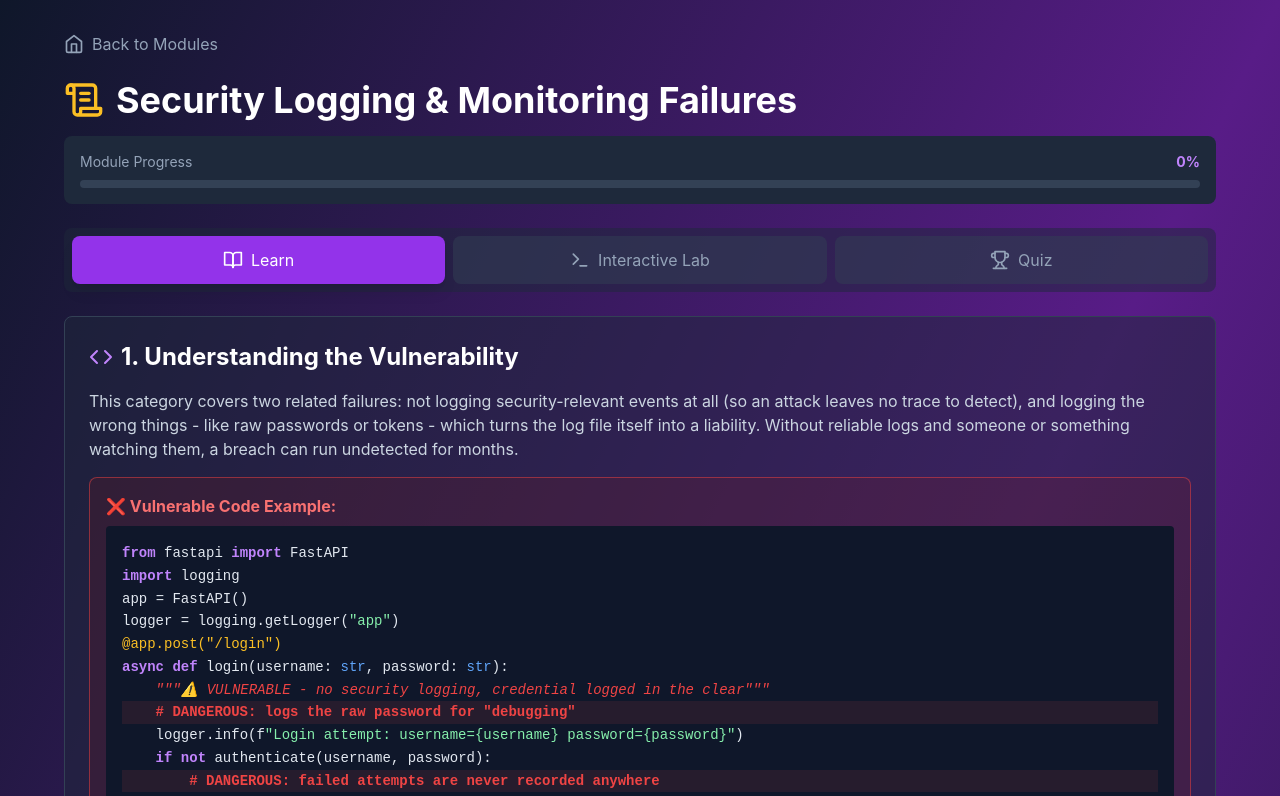
it: LoggingFailuresModule log-review lab › flags a log line that leaks a raw password
Click the button "Interactive Lab" at point(640, 260), box [453,236,827,284]
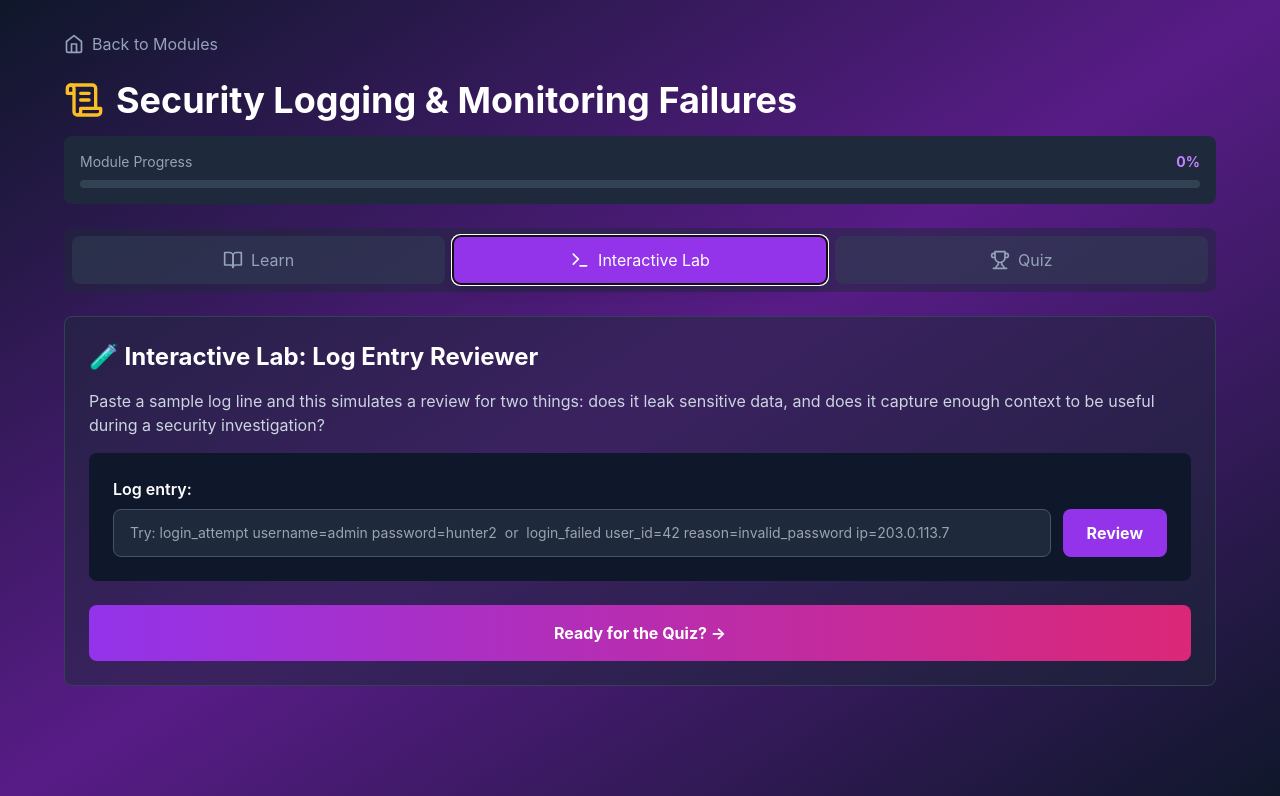
Type "login_attempt username=admin password=hunter2" into the field with placeholder "login_attempt" at point(582, 533), box [113,509,1051,557]
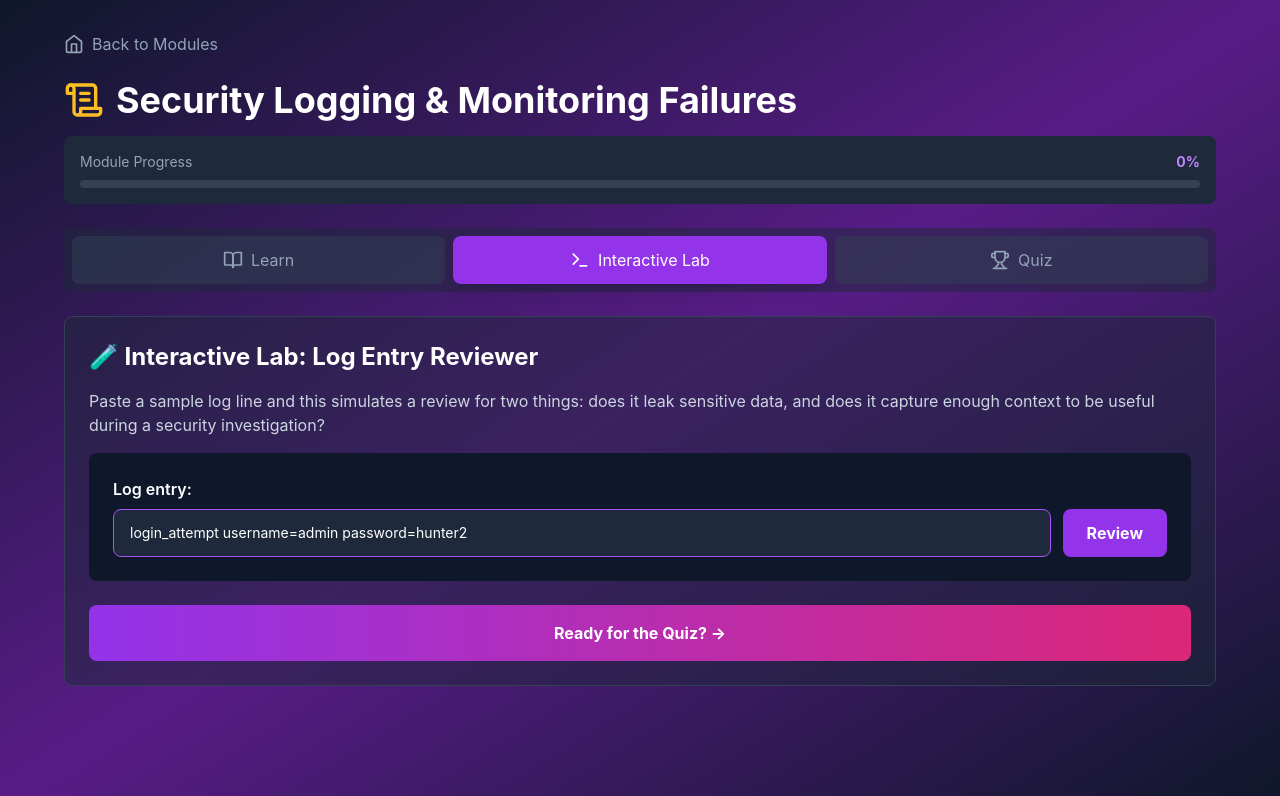
Click the button "Review" at point(1115, 533), box [1063,509,1167,557]
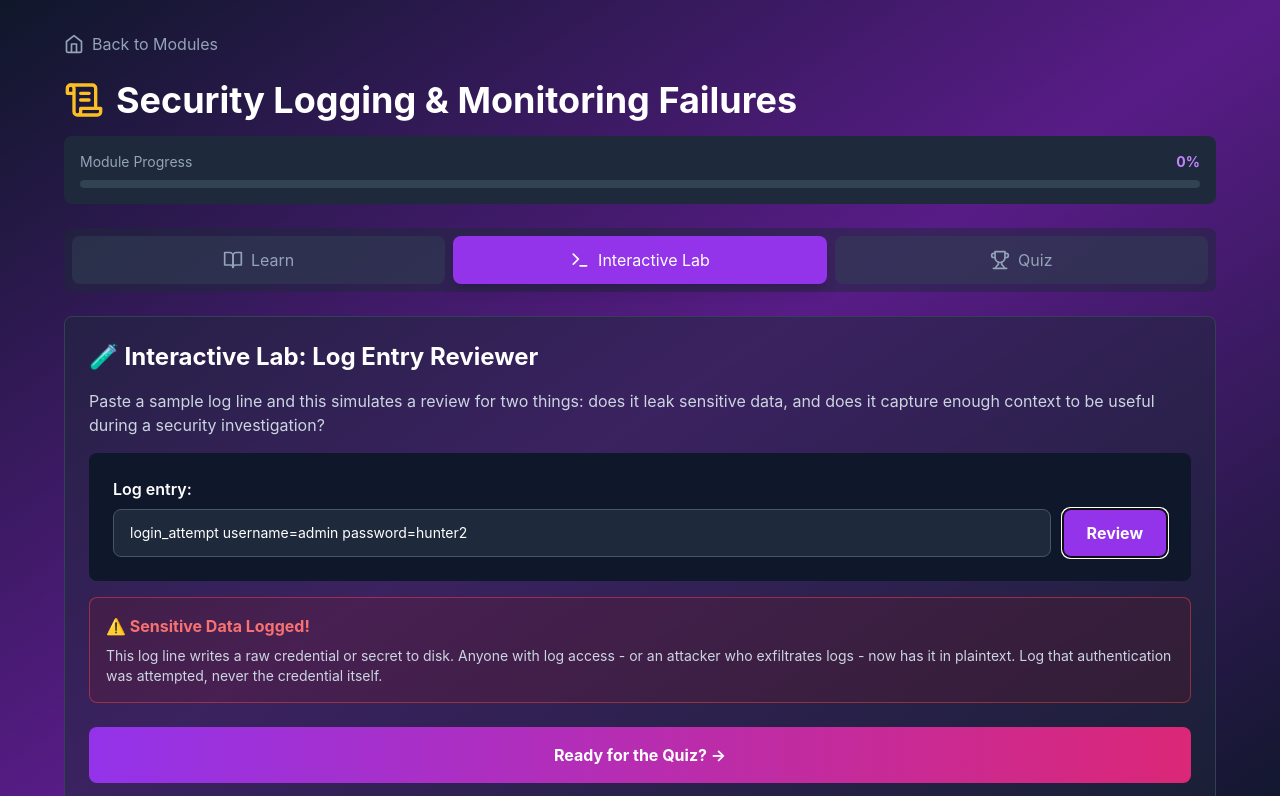
Expected: the text "⚠️ Sensitive Data Logged!" is shown, [106,616,310,636]
